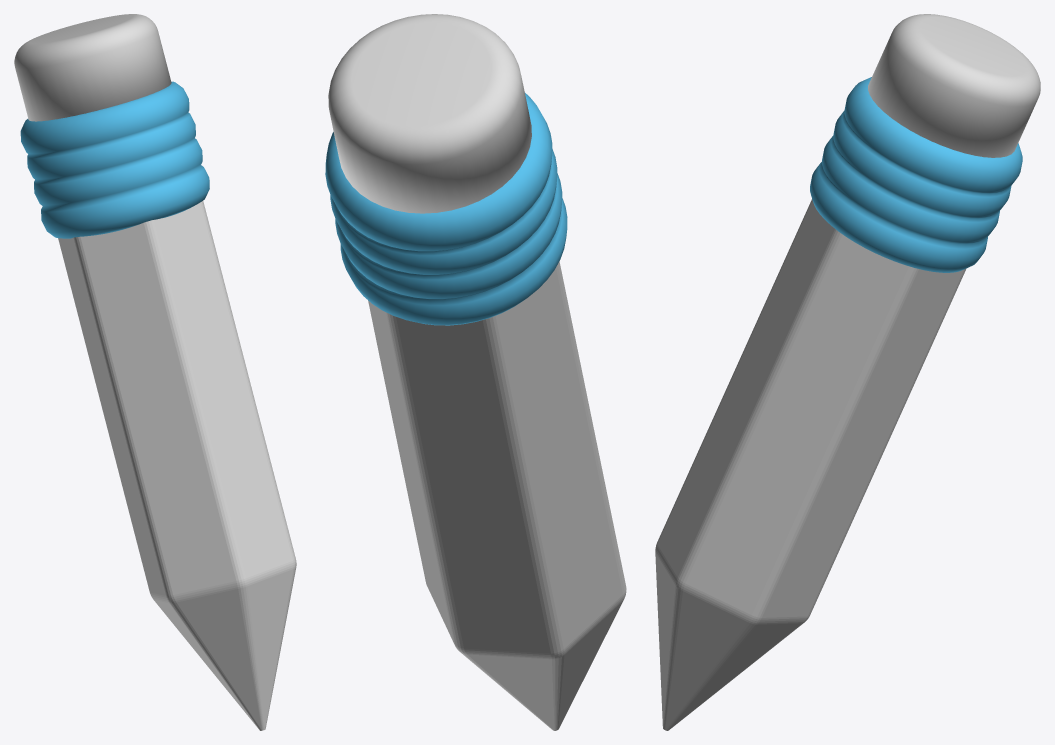
File: onderwijs-en-vorming.glb
3 renders of one model, left to right at view 1: azimuth 30°, elevation 25°; view 2: azimuth 150°, elevation 25°; view 3: azimuth 270°, elevation 25°, orthographic. The views are drawn at different scales.
Parts seen in each view (by area): view 1: pencil/glass, soft-part/color, eraser/glass; view 2: pencil/glass, eraser/glass, soft-part/color; view 3: pencil/glass, soft-part/color, eraser/glass.
Boxes of the visible parts, x1,y1,x2,y2 form: pencil/glass: (58,201,296,730); soft-part/color: (20,81,209,238); eraser/glass: (14,14,171,121); pencil/glass: (368,261,626,730); eraser/glass: (328,14,531,213); soft-part/color: (325,93,567,325); pencil/glass: (655,199,966,730); soft-part/color: (810,77,1022,272); eraser/glass: (868,14,1040,157).
Size of the model in its own units: 0.682 by 2.47 by 1.26.
